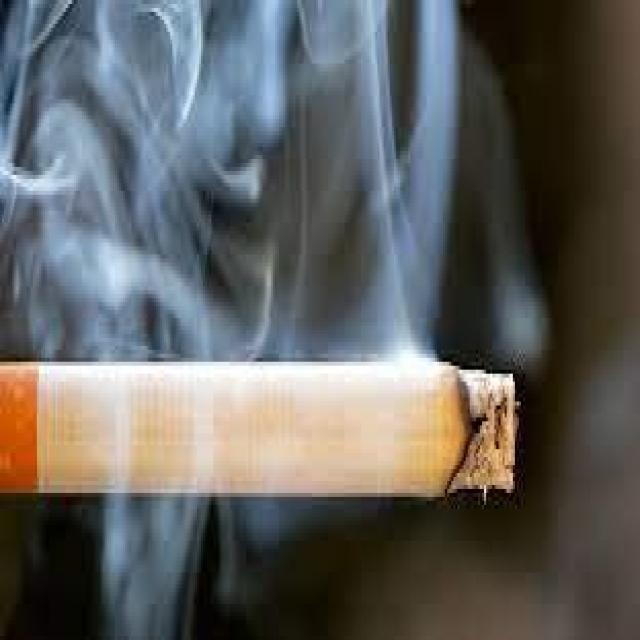cigarette: (0, 354, 523, 501)
